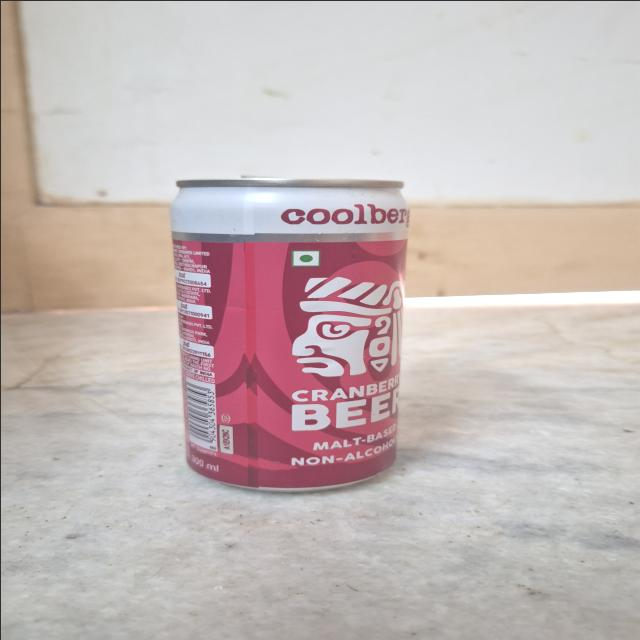Coolberg: (170, 178, 404, 482)
